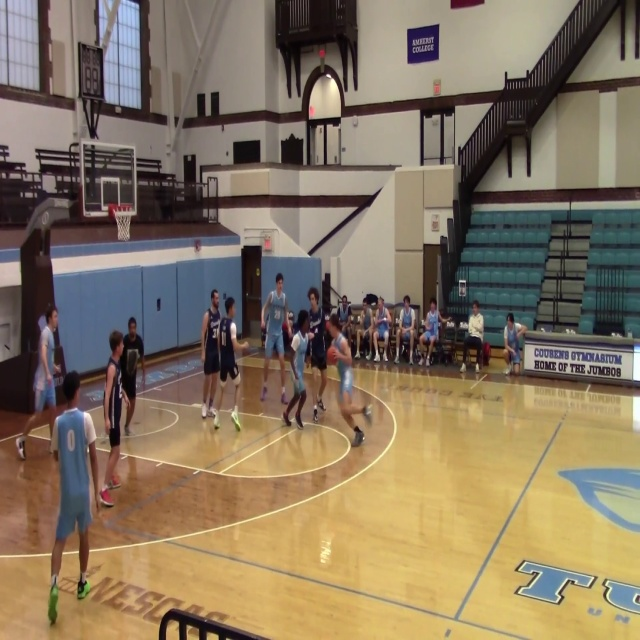Basketball: (326, 347, 338, 366), (240, 341, 249, 355)
